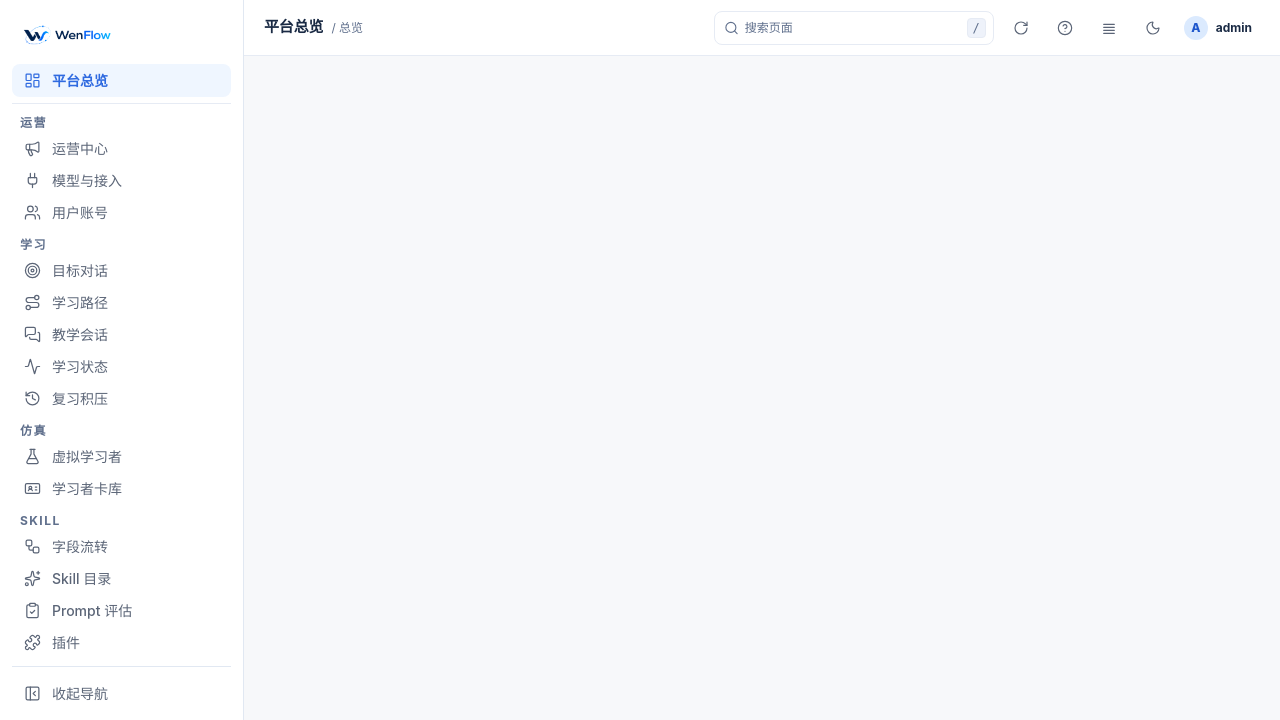
Scenario: 顶栏搜索 · 转搜出口 › 点出口 → 跳到对应列表页并带上关键词（可继续深链 / 收藏）
The width and height of the screenshot is (1280, 720).
Type "孙浩" into the dropdown with class "mshell__search-input" at {"x": 854, "y": 28}, box [714,10,994,44]
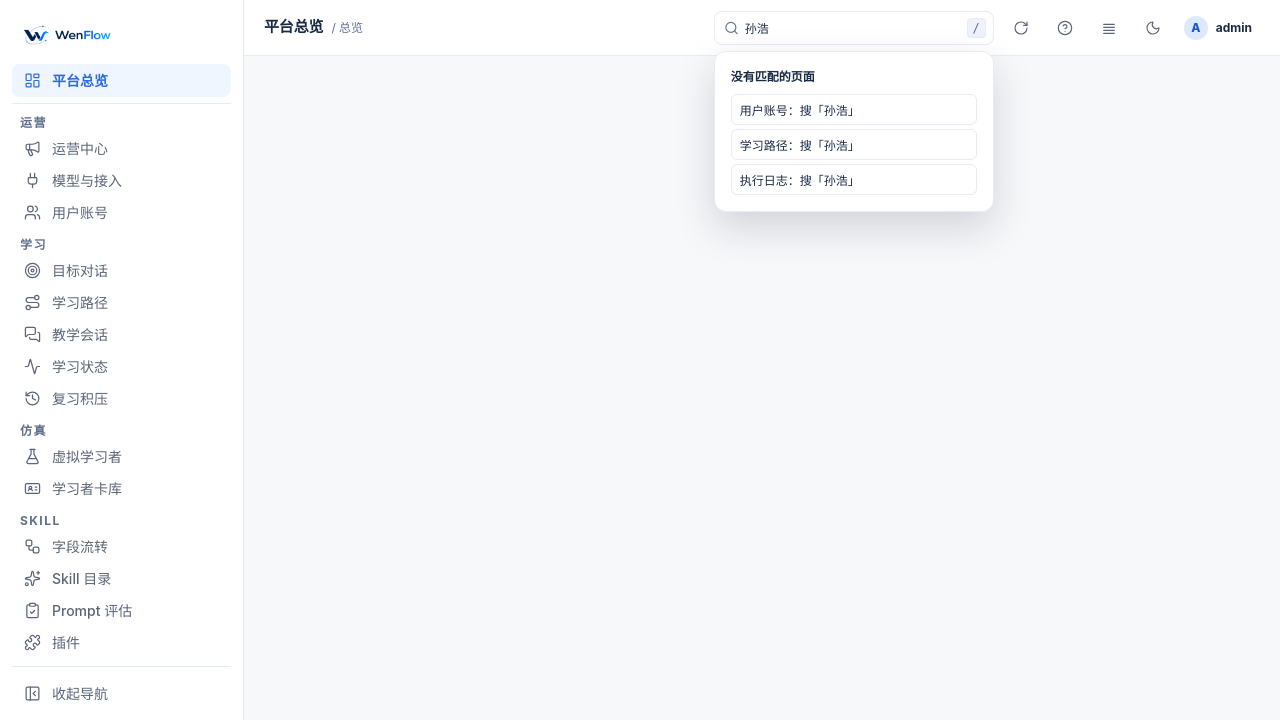
Click the button with class "mshell__search-fallback" showing "用户账号：搜「孙浩」" at {"x": 854, "y": 109}, box [731,94,977,124]
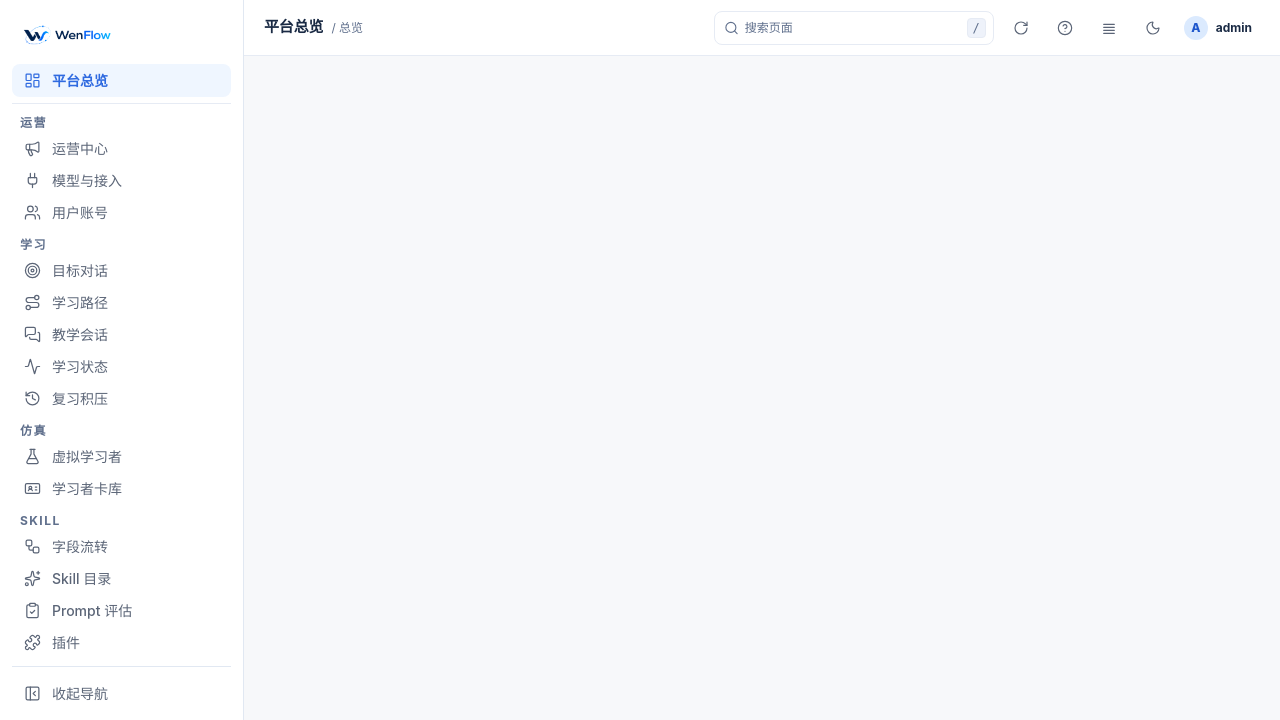
Now no buttons with class "mshell__search-fallback" are shown
